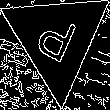P_SW: (32, 8, 82, 71)
